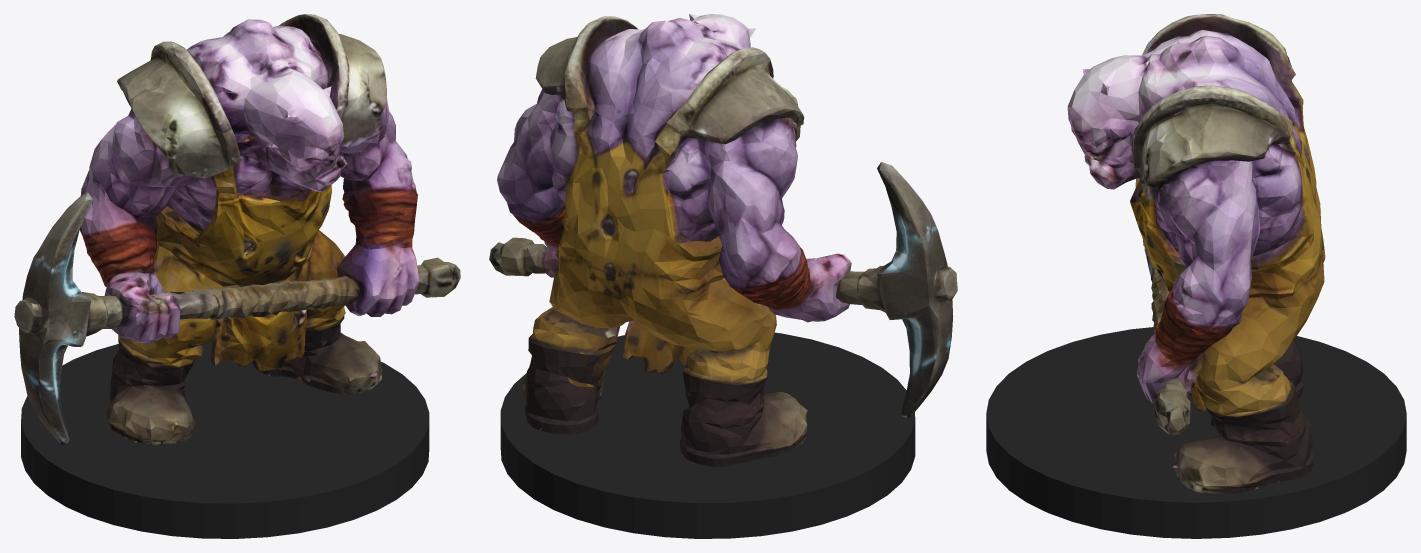
File: aberrant.glb
3 views of the same model, side by side, from view 1: azimuth 30°, elevation 25°; view 2: azimuth 150°, elevation 25°; view 3: azimuth 270°, elevation 25° (orthographic). The views are drawn at different scales.
Visible parts, largest first — view 1: figure, base; view 2: figure, base; view 3: figure, base.
Part boxes in pixels (x1=…): figure: x1=14, y1=14, x2=460, y2=445; base: x1=21, y1=337, x2=429, y2=538; figure: x1=489, y1=14, x2=957, y2=466; base: x1=500, y1=332, x2=915, y2=538; figure: x1=1067, y1=14, x2=1325, y2=493; base: x1=986, y1=327, x2=1406, y2=538.
Bounding box in the file's own units: 1.59 × 1.42 × 1.26.
Materials: 2 (1 with a texture image).
